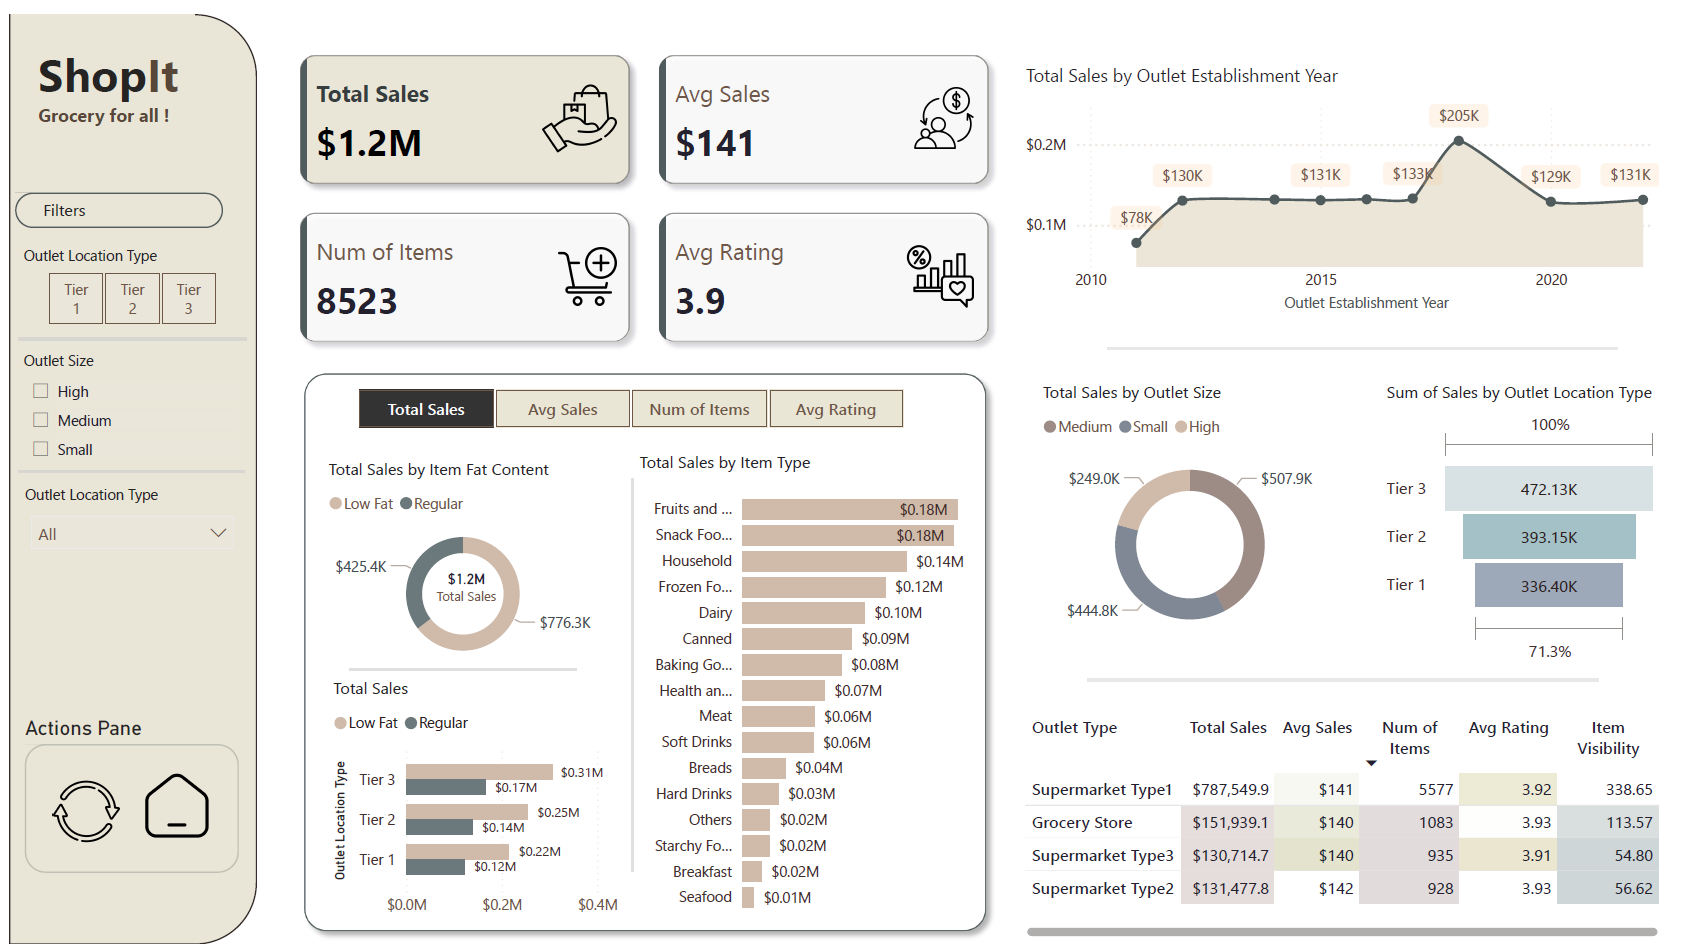

Layout of this report page (visuals, bound fields, positions):
{"tool":"powerbi","page":{"name":"Home","canvas":[1400,800],"ordinal":0},"visuals":[{"type":"shape","box":[0,0,204.3,765.7],"z":0},{"type":"textbox","box":[19.2,18.6,138.1,96.1],"z":1000},{"type":"cardVisual","fields":{"Data":["StoreIt Data.Total Sales","StoreIt Data.Average Sales","StoreIt Data.Number of Items","StoreIt Data.Avg Rating"]},"box":[222.5,17.1,600,270],"z":2000},{"type":"shape","box":[233.9,287.1,578.6,477.1],"z":3000},{"type":"slicer","fields":{"Values":["Metrics.Metrics"]},"box":[261.8,302.5,498.3,45],"z":4000},{"type":"cardVisual","fields":{"Data":["StoreIt Data.Total Sales"]},"box":[324.4,436.3,104.3,71.4],"z":5000},{"type":"clusteredBarChart","fields":{"Y":["StoreIt Data.Total Sales"],"Category":["StoreIt Data.Outlet Location Type"],"Series":["StoreIt Data.Item Fat Content"]},"box":[262.1,545.8,248.8,205.6],"z":6000},{"type":"shape","box":[280.5,524.4,187,30.5],"z":7000},{"type":"barChart","fields":{"Y":["StoreIt Data.Total Sales"],"Category":["StoreIt Data.Item Type"]},"box":[513.9,360,308.6,388.6],"z":8000},{"type":"shape","box":[494.1,381.9,38.2,324.3],"z":9000},{"type":"shape","box":[904.4,250,419.7,49.6],"z":10000},{"type":"lineChart","fields":{"Y":["StoreIt Data.Total Sales"],"Category":["StoreIt Data.Outlet Establishment Year"]},"box":[831.9,40.2,531.6,209.8],"z":11000},{"type":"funnel","fields":{"Y":["Sum(StoreIt Data.Sales)"],"Category":["StoreIt Data.Outlet Location Type"]},"box":[1129.5,302.1,234,237.8],"z":12000},{"type":"pivotTable","fields":{"Values":["StoreIt Data.Total Sales","StoreIt Data.Avg Sales","StoreIt Data.Num of Items","Avg(StoreIt Data.Rating)","Sum(StoreIt Data.Item Visibility)"],"Rows":["StoreIt Data.Outlet Type"]},"box":[831.9,569.2,531.6,195.9],"z":13000},{"type":"donutChart","fields":{"Y":["StoreIt Data.Total Sales"],"Category":["StoreIt Data.Item Fat Content"]},"box":[257.9,364.6,231.5,178.1],"z":14000},{"type":"donutChart","fields":{"Y":["StoreIt Data.Total Sales"],"Category":["StoreIt Data.Outlet Size"]},"box":[845.9,302.1,251.8,222.6],"z":15000},{"type":"shape","box":[887.8,523.4,419.7,49.6],"z":16000},{"type":"slicer","title":"Outlet Location Type","fields":{"Values":["StoreIt Data.Outlet Location Type"]},"box":[7.3,185.3,187,75],"z":17000},{"type":"slicer","title":"Outlet Size","fields":{"Values":["StoreIt Data.Outlet Size"]},"box":[7.2,276.7,187,114.5],"z":18000},{"type":"textbox","box":[22.9,147.1,220,32.9],"z":19000},{"type":"image","box":[27.2,624.4,72.9,64.3],"z":20000},{"type":"image","box":[101.5,614.4,72.9,74.3],"z":21000},{"type":"shape","title":"Actions Pane","box":[12.9,577.3,175.7,130],"z":22000},{"type":"shape","title":"Filter Pane","box":[4.9,147.5,171.5,28.5],"z":23000},{"type":"slicer","title":"Outlet Location Type","fields":{"Values":["StoreIt Data.Item Type"]},"box":[8.3,381.6,186.9,66.2],"z":24000},{"type":"shape","box":[8.4,252.2,186.9,30.8],"z":25000},{"type":"shape","box":[7.5,360.9,186.9,30.8],"z":26000}]}

Visuals, with their boxes in screenshot pixels (x1, y1, x2, y2), scaled from the page's 1400x800 canvas onto the 1696x947 screenshot:
shape: (0,0,247,906)
textbox: (23,22,191,136)
cardVisual - StoreIt Data.Total Sales x StoreIt Data.Average Sales: (270,20,996,340)
shape: (283,340,984,905)
slicer - Metrics.Metrics: (317,358,921,411)
cardVisual - StoreIt Data.Total Sales: (393,516,519,601)
clusteredBarChart - StoreIt Data.Total Sales x StoreIt Data.Outlet Location Type: (318,646,619,889)
shape: (340,621,566,657)
barChart - StoreIt Data.Total Sales x StoreIt Data.Item Type: (623,426,996,886)
shape: (599,452,645,836)
shape: (1096,296,1604,355)
lineChart - StoreIt Data.Total Sales x StoreIt Data.Outlet Establishment Year: (1008,48,1652,296)
funnel - Sum(StoreIt Data.Sales) x StoreIt Data.Outlet Location Type: (1368,358,1652,639)
pivotTable - StoreIt Data.Total Sales x StoreIt Data.Avg Sales: (1008,674,1652,906)
donutChart - StoreIt Data.Total Sales x StoreIt Data.Item Fat Content: (312,432,593,642)
donutChart - StoreIt Data.Total Sales x StoreIt Data.Outlet Size: (1025,358,1330,621)
shape: (1076,620,1584,678)
"Outlet Location Type" slicer: (9,219,235,308)
"Outlet Size" slicer: (9,328,235,463)
textbox: (28,174,294,213)
image: (33,739,121,815)
image: (123,727,211,815)
"Actions Pane" shape: (16,683,228,837)
"Filter Pane" shape: (6,175,214,208)
"Outlet Location Type" slicer: (10,452,236,530)
shape: (10,299,237,335)
shape: (9,427,236,464)
